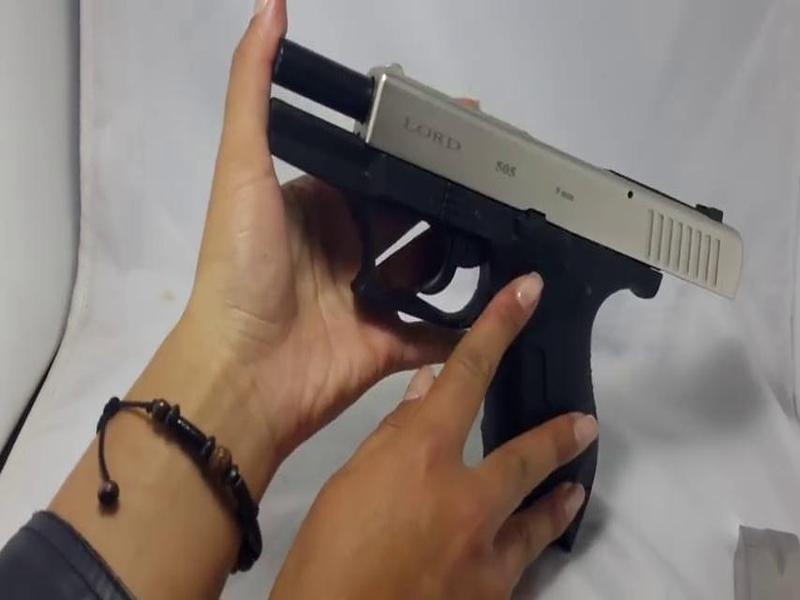Pistola: (179, 24, 756, 556)
